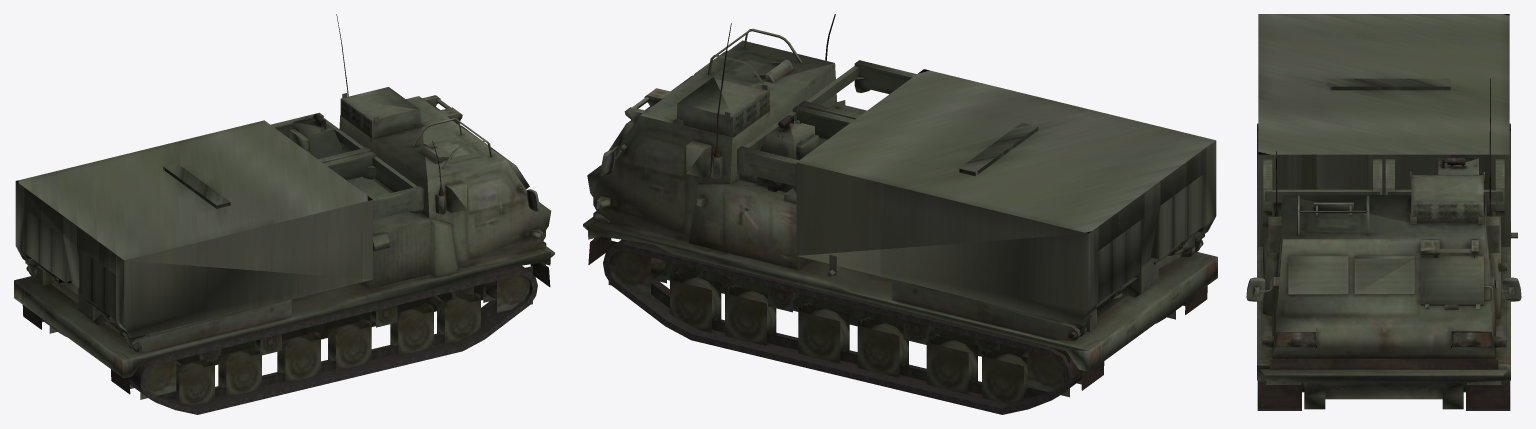
3 views of the same model, side by side, from view 1: azimuth 30°, elevation 25°; view 2: azimuth 150°, elevation 25°; view 3: azimuth 270°, elevation 25° (orthographic). The views are drawn at different scales.
Visible parts, largest first — view 1: g_m270_hull, g_m270_turret; view 2: g_m270_hull, g_m270_turret; view 3: g_m270_hull, g_m270_turret.
Boxes of the visible parts, box(x1,y1,x2,y2) form: g_m270_hull: box(14, 14, 554, 414); g_m270_turret: box(15, 120, 372, 338); g_m270_hull: box(583, 14, 1217, 414); g_m270_turret: box(796, 69, 1216, 324); g_m270_hull: box(1246, 78, 1521, 410); g_m270_turret: box(1258, 14, 1509, 246).
Bounding box in the file's own units: 6.9 × 4.08 × 3.26.
Materials: 2 (2 with a texture image).
